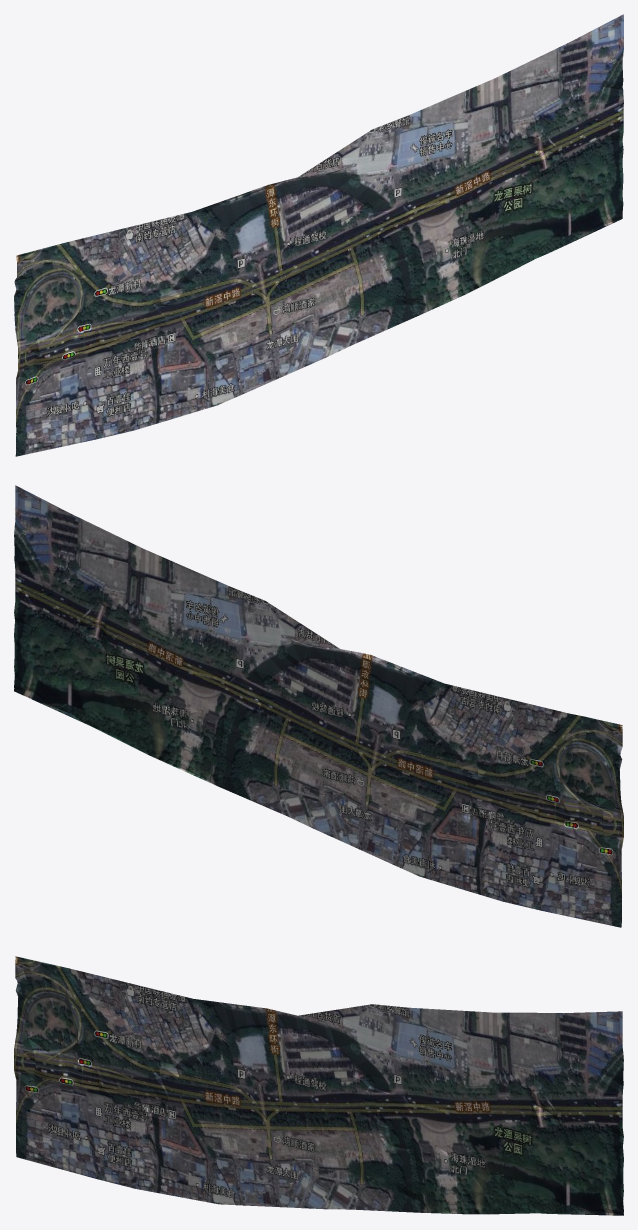
3 views of the same model, one above another, from view 1: azimuth 30°, elevation 25°; view 2: azimuth 150°, elevation 25°; view 3: azimuth 330°, elevation 25° (orthographic).
Parts seen in each view (by area): view 1: 0_2_2_0_0; view 2: 0_2_2_0_0; view 3: 0_2_2_0_0.
Part boxes in pixels (x1,y1,x2,y2): 0_2_2_0_0: [14, 14, 623, 456]; 0_2_2_0_0: [14, 485, 623, 927]; 0_2_2_0_0: [14, 956, 623, 1215].
Size of the model in its own units: 972 by 455 by 11.83.
1 material, 1 textured.
